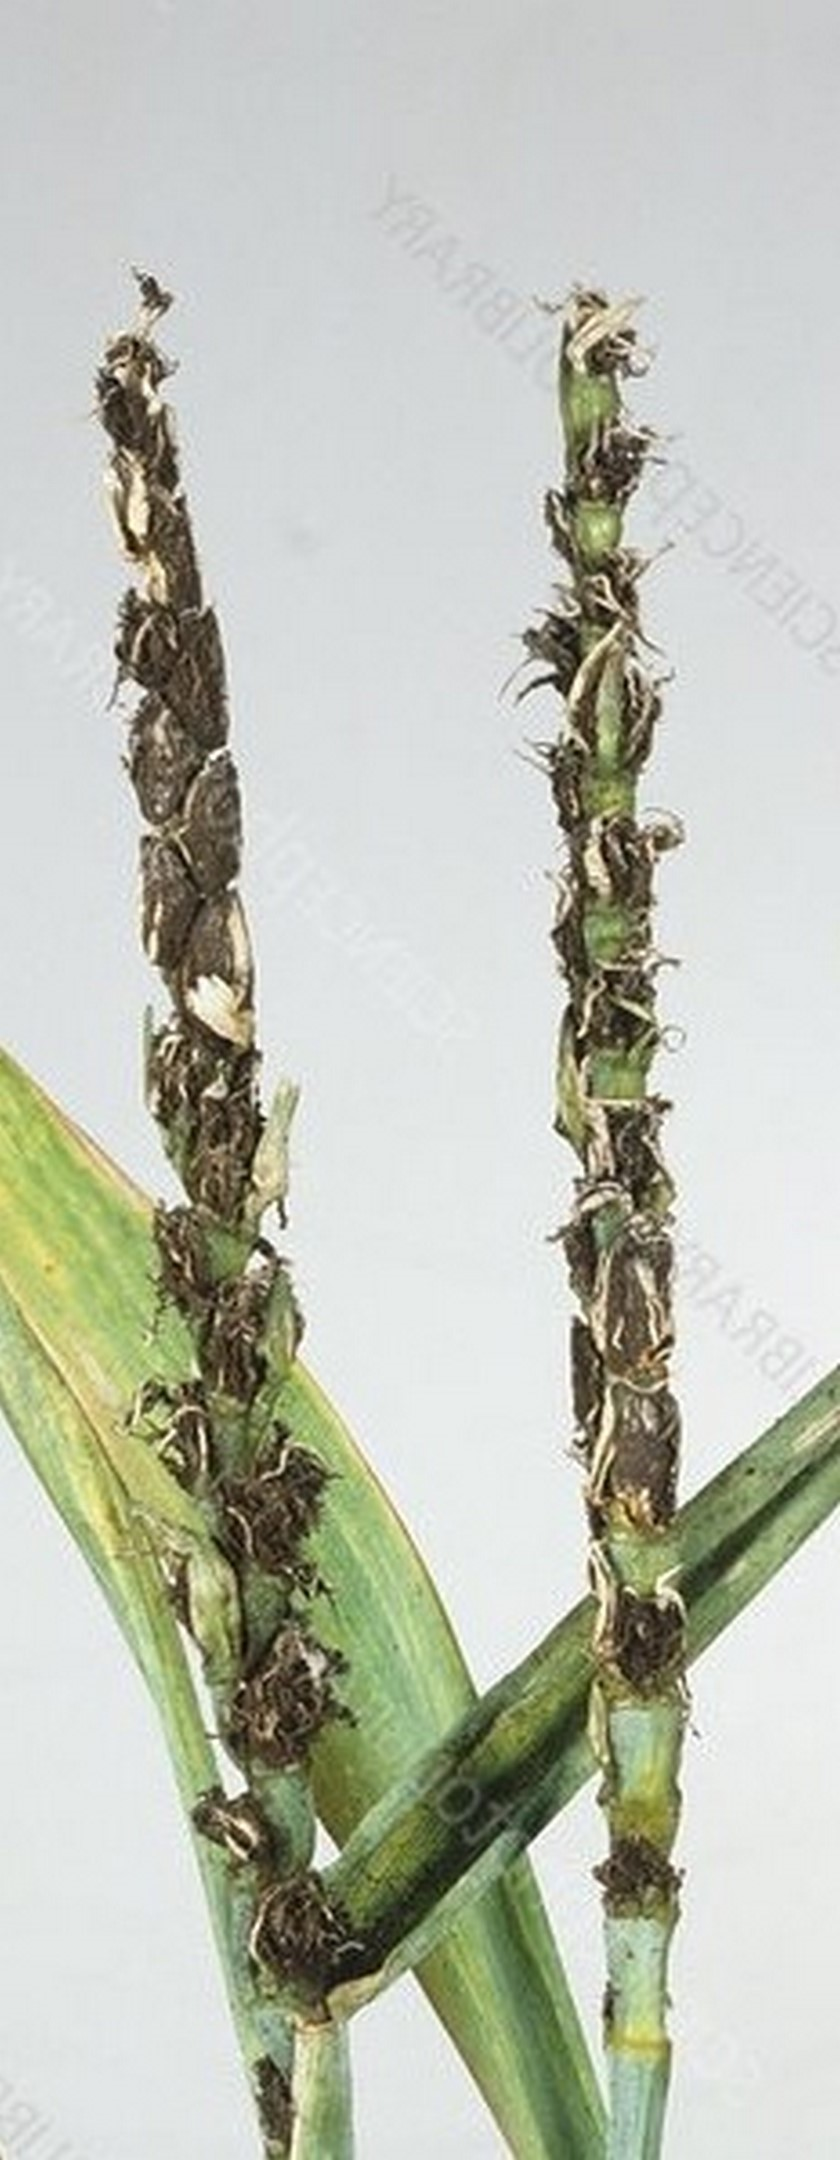Wheat Loose Smut: (61, 289, 370, 1817), (492, 304, 746, 1861)
